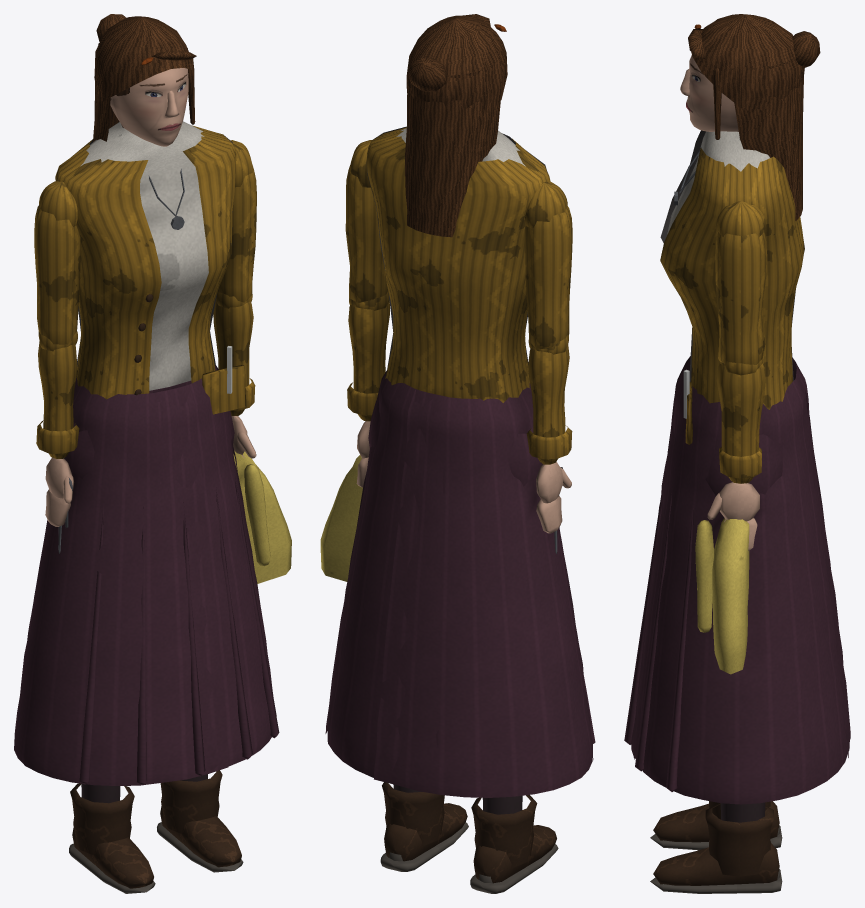
File: char_nora.glb
3 renders of one model, left to right at view 1: azimuth 30°, elevation 25°; view 2: azimuth 150°, elevation 25°; view 3: azimuth 270°, elevation 25°, orthographic.
Parts seen in each view (by area): view 1: SkirtR, Spine, SkirtL, Head, UpperArmR, HandL, ForearmR, UpperArmL, ShinR, FootR, FootL, ForearmL (+3 smaller); view 2: SkirtR, Spine, SkirtL, Head, UpperArmR, UpperArmL, ForearmR, ForearmL, HandL, ShinR, FootL, FootR (+3 smaller); view 3: SkirtL, Spine, Head, HandL, UpperArmL, ForearmL, FootL, ShinL, SkirtR, FootR, Hips.
Boxes of the visible parts, x1,y1,x2,y2 form: SkirtR: (14, 378, 228, 785); Spine: (55, 121, 246, 414); SkirtL: (157, 365, 279, 776); Head: (93, 14, 196, 146); UpperArmR: (34, 181, 80, 344); HandL: (231, 416, 291, 583); ForearmR: (36, 331, 79, 458); UpperArmL: (217, 140, 256, 302); ShinR: (70, 783, 134, 854); FootR: (69, 828, 155, 893); FootL: (157, 806, 243, 872); ForearmL: (213, 292, 255, 415); SkirtR: (374, 383, 595, 797); Spine: (367, 126, 550, 402); SkirtL: (325, 370, 446, 777); Head: (405, 14, 507, 237); UpperArmR: (524, 182, 572, 349); UpperArmL: (345, 140, 387, 302); ForearmR: (526, 335, 572, 464); ForearmL: (347, 290, 389, 421); HandL: (320, 421, 370, 581); ShinR: (471, 795, 537, 867); FootL: (380, 803, 468, 871); FootR: (470, 825, 558, 893); SkirtL: (624, 364, 849, 804); Spine: (660, 130, 804, 444); Head: (680, 14, 820, 220); HandL: (695, 482, 759, 674); UpperArmL: (715, 201, 767, 364); ForearmL: (716, 359, 765, 483); FootL: (650, 842, 782, 893); ShinL: (705, 802, 773, 876); SkirtR: (631, 356, 850, 759); FootR: (650, 801, 782, 850); Hips: (691, 371, 782, 495).
Size of the model in its own units: 0.5534 by 1.69 by 0.4075.
15 materials, 15 textured.
